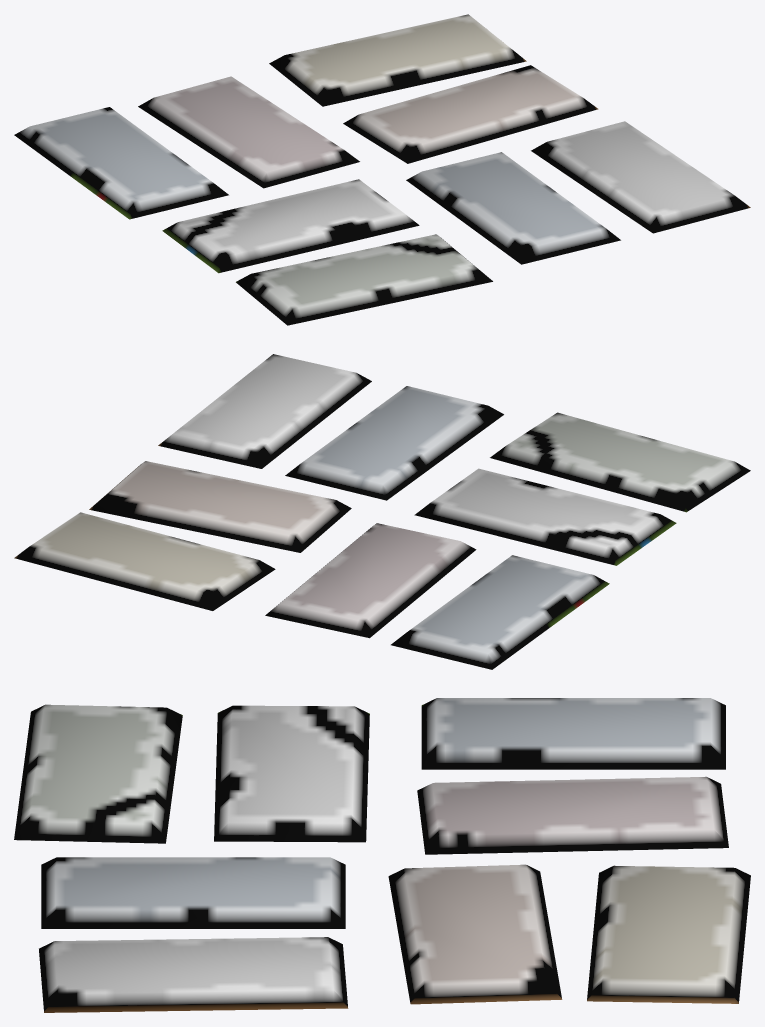
Rendered from deco_floorTilesCrossScattered.FBX.
3 views of the same model, one above another, from view 1: azimuth 30°, elevation 25°; view 2: azimuth 150°, elevation 25°; view 3: azimuth 270°, elevation 25° (orthographic). The views are drawn at different scales.
Visible parts, largest first — view 1: deco_floorTilesCrossScattered; view 2: deco_floorTilesCrossScattered; view 3: deco_floorTilesCrossScattered.
Boxes of the visible parts, <box> form: deco_floorTilesCrossScattered: <box>14,14,750,325</box>; deco_floorTilesCrossScattered: <box>14,354,750,669</box>; deco_floorTilesCrossScattered: <box>14,698,750,1012</box>.
Bounding box in the file's own units: 1.91 × 0.04 × 1.94.
1 material, 1 textured.
